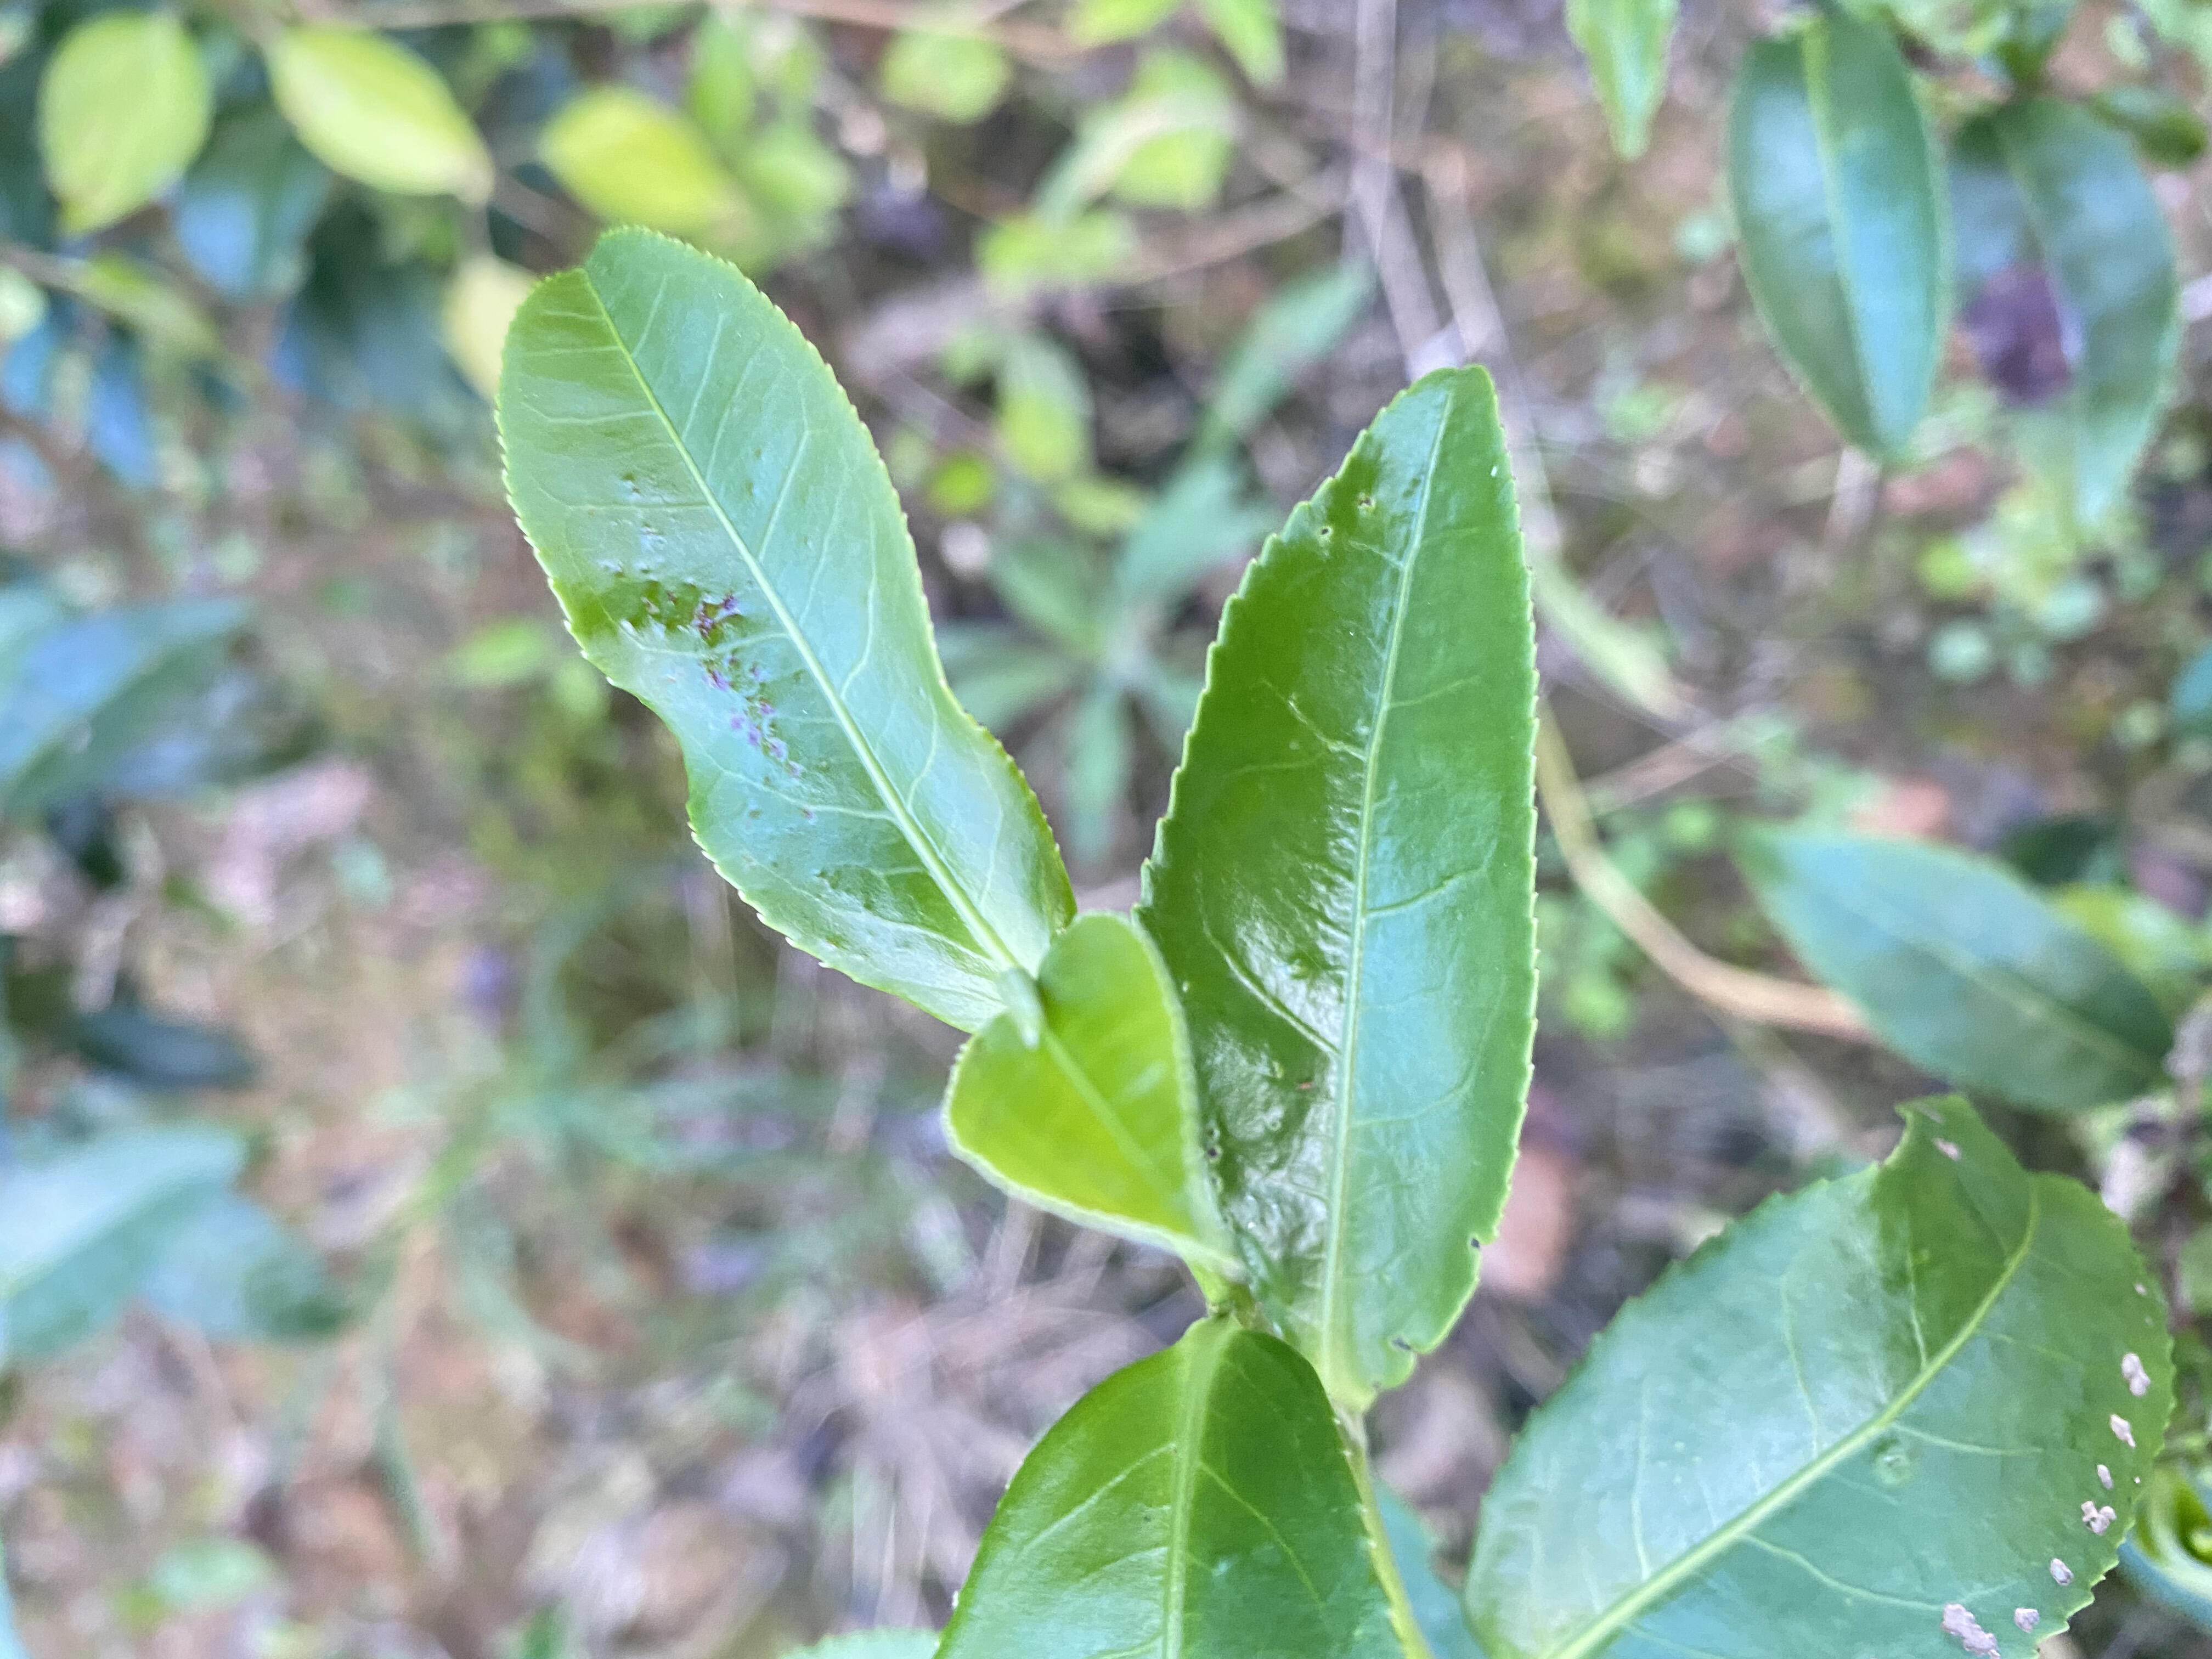healthy: (932, 1330, 1409, 1657), (942, 911, 1240, 1270)
tanju_low: (491, 225, 1073, 1019), (1465, 1091, 2182, 1657)
